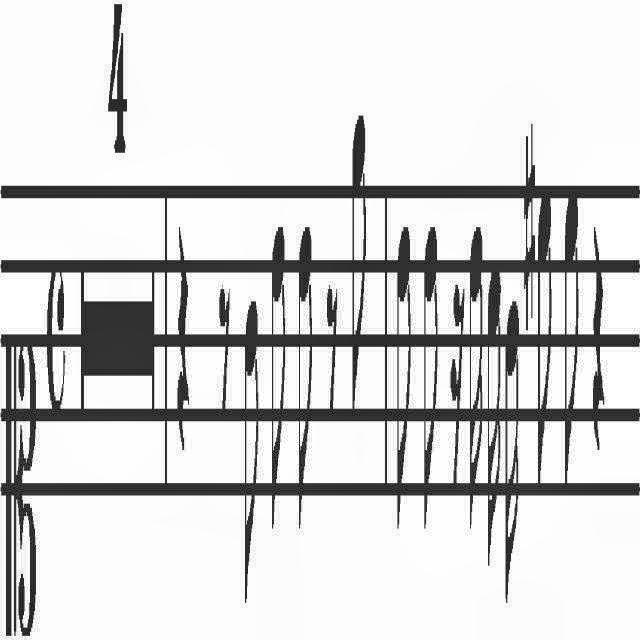Diez: (522, 116, 536, 328)
Eighth-note: (238, 244, 262, 612), (266, 203, 290, 553), (390, 162, 410, 558), (422, 206, 442, 560), (560, 140, 578, 504), (296, 210, 314, 538), (537, 138, 553, 498), (352, 89, 368, 443)
Eighth-rest: (215, 243, 232, 465), (324, 257, 340, 455)
Quarter-rest: (166, 161, 194, 559), (590, 210, 606, 480)
Sixteenth-note: (464, 202, 486, 560), (504, 282, 522, 626), (488, 237, 504, 563)
